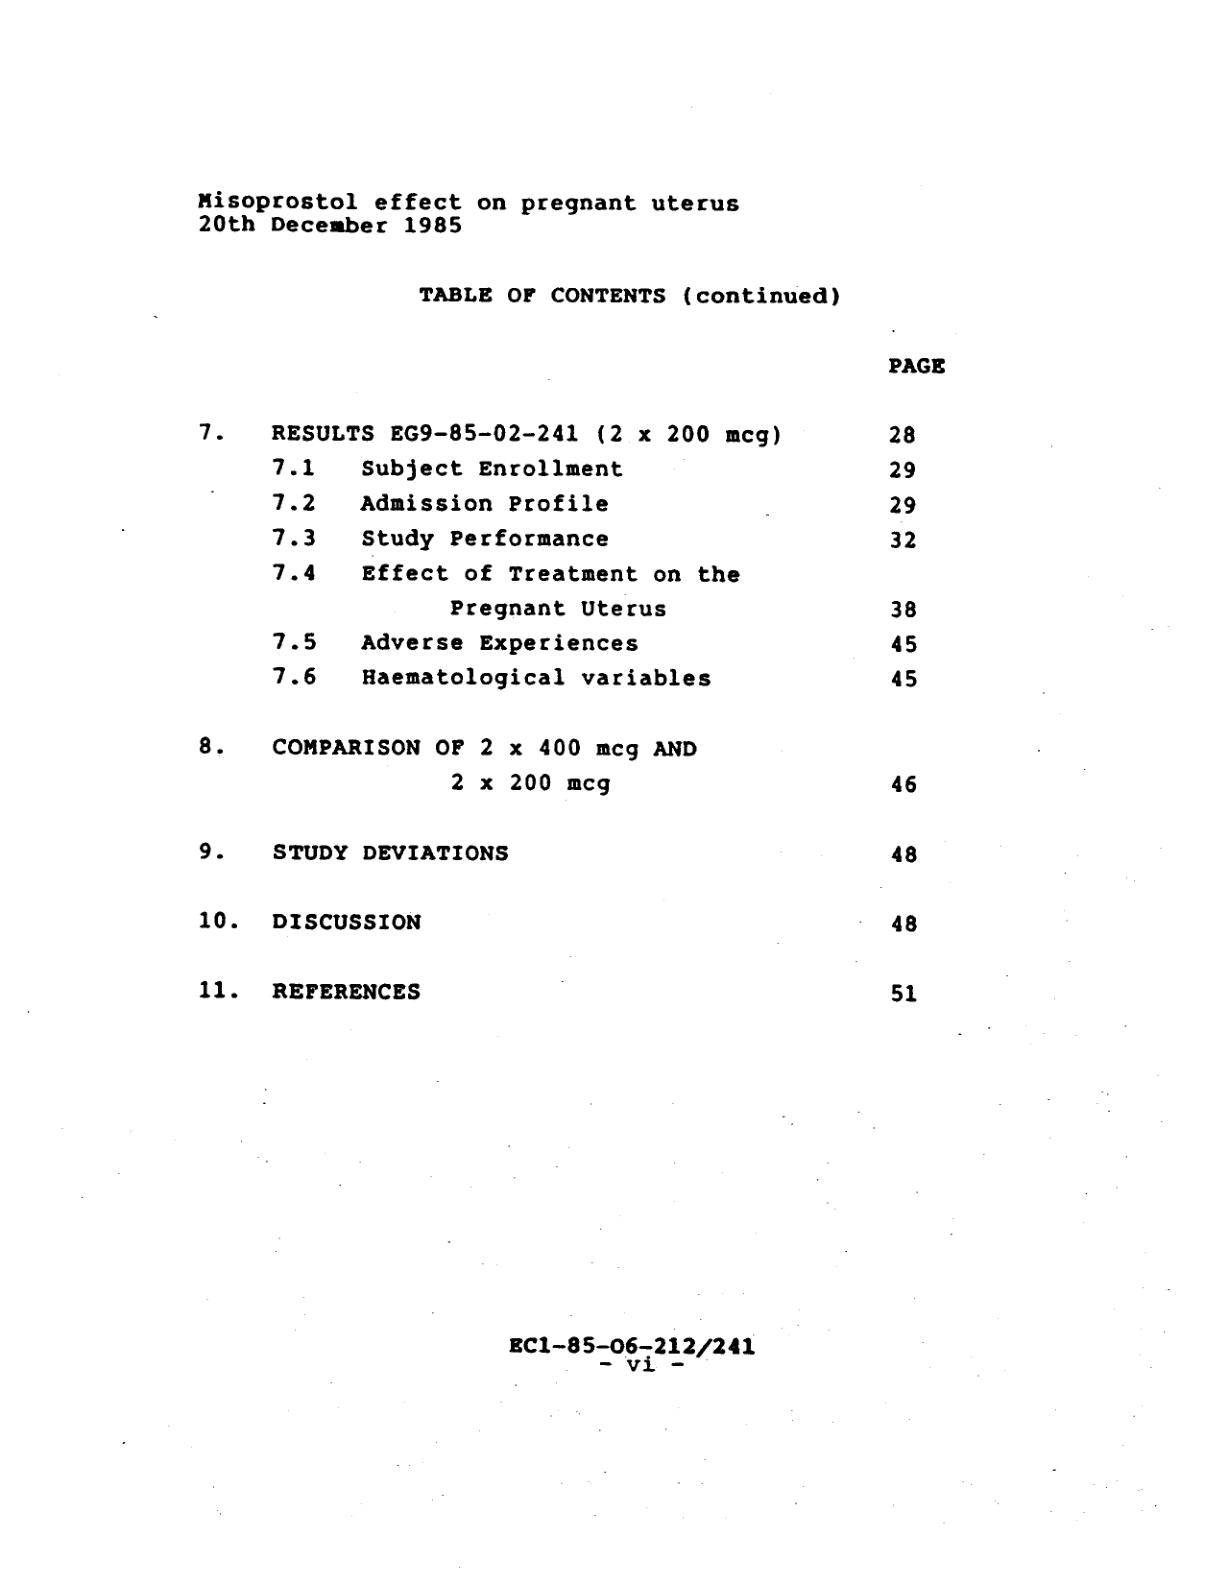nolines: (195, 352, 948, 1011)
